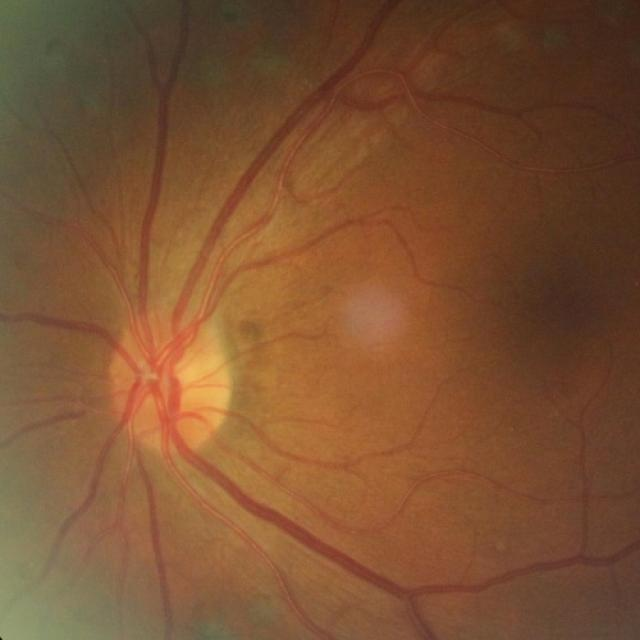OC: (148, 348, 202, 408)
OD: (106, 317, 228, 450)
